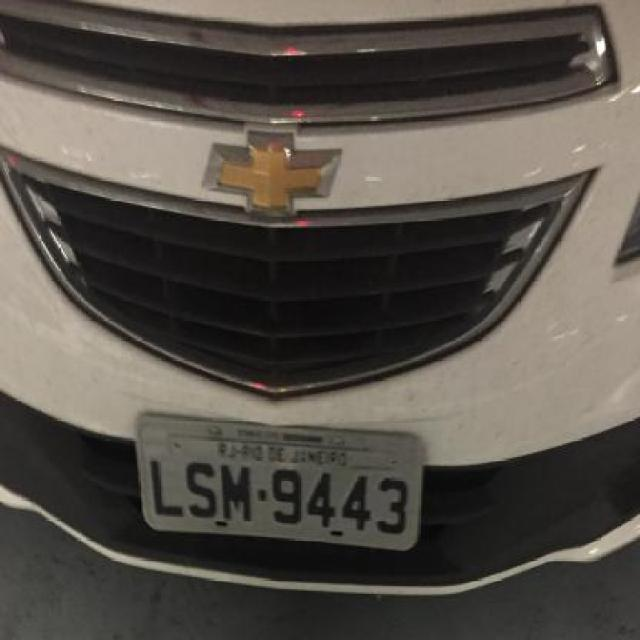old_plate: (126, 405, 434, 557)
